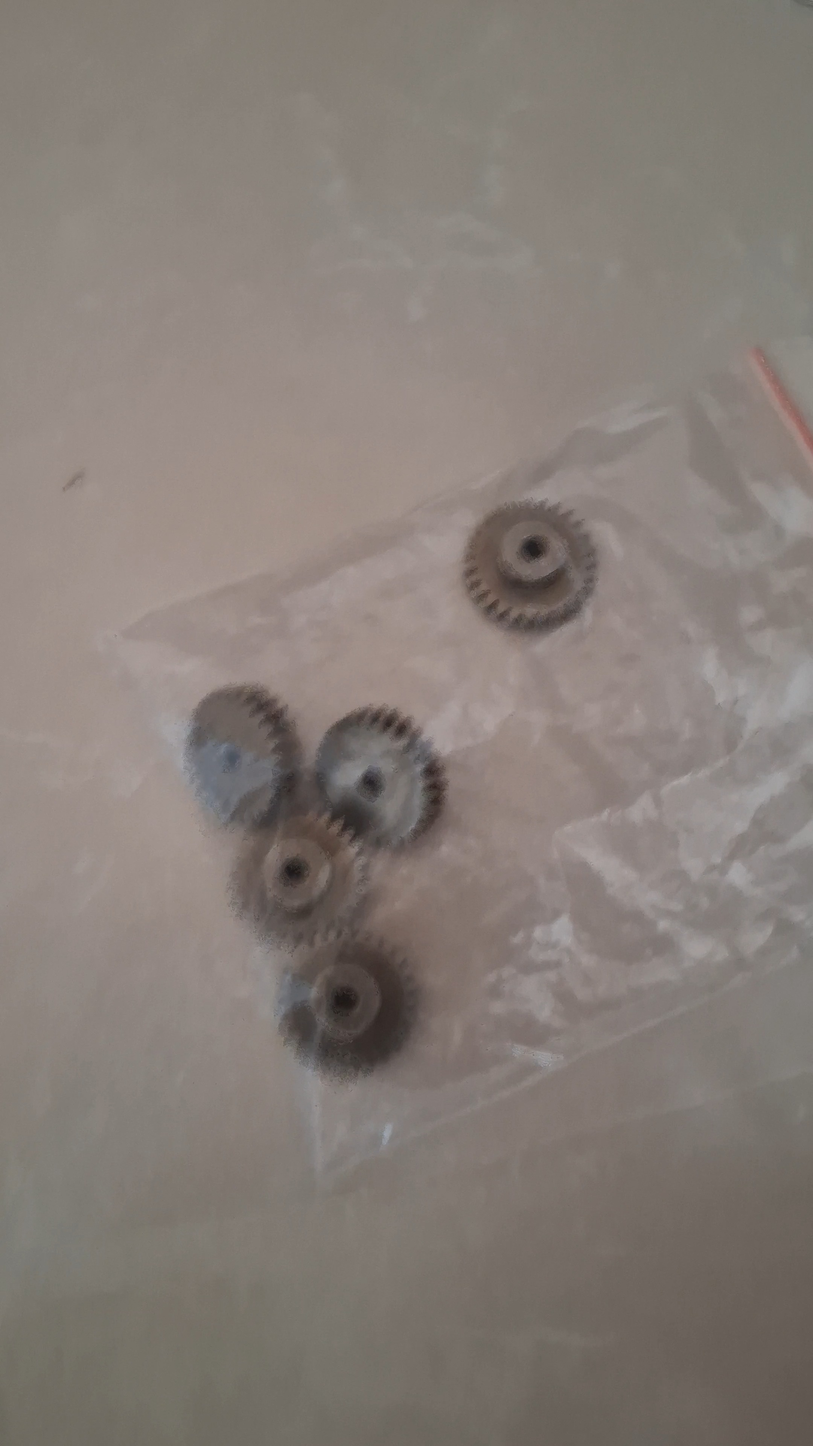spur gear: (277, 937, 417, 1078), (315, 706, 445, 846), (231, 814, 367, 947), (463, 500, 596, 628), (185, 685, 298, 827)
